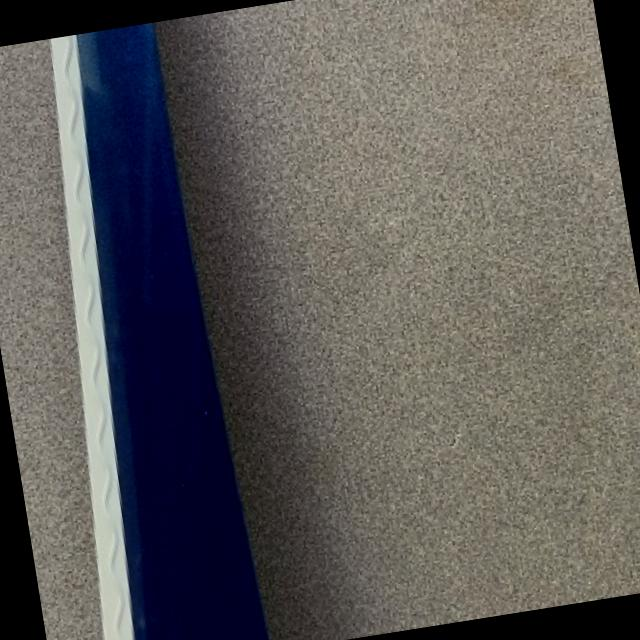healthy: (53, 23, 267, 640)
